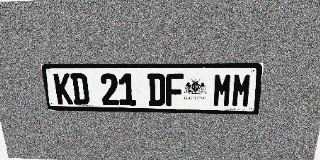1: (117, 73, 136, 106)
2: (100, 73, 119, 105)
D: (70, 73, 90, 105), (147, 73, 165, 106)
F: (166, 73, 184, 106)
K: (53, 73, 73, 105)
M: (231, 73, 253, 107), (212, 73, 233, 107)
